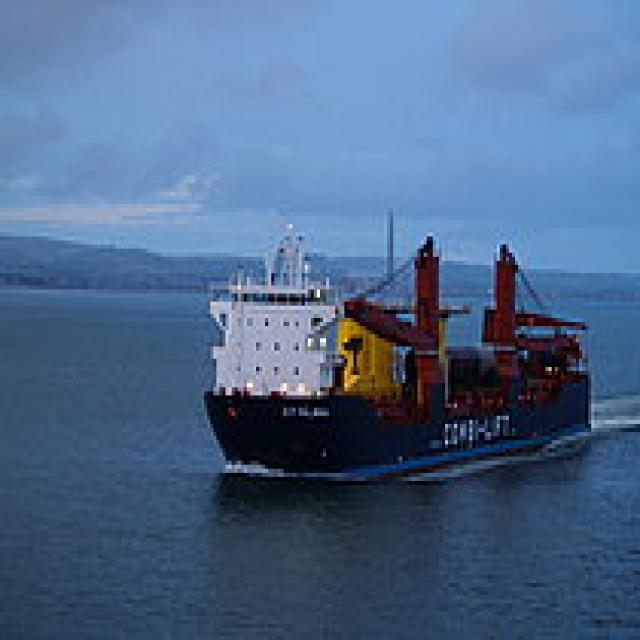Ship: (206, 197, 599, 491)
